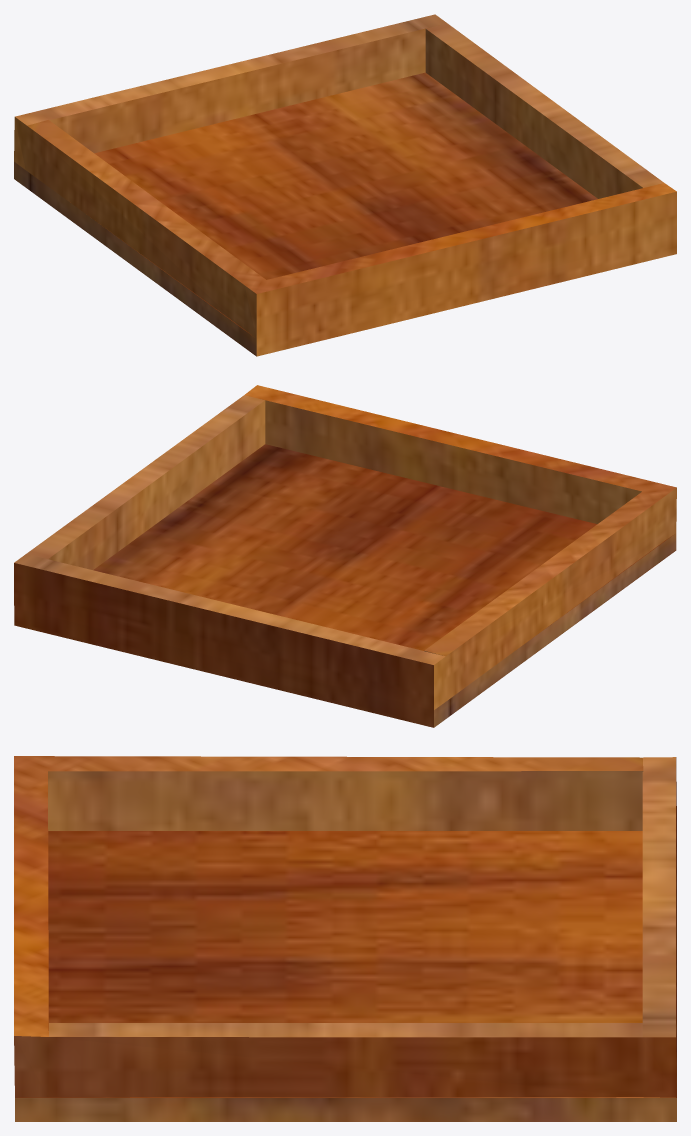
The model's file is table.obj.
The picture shows the model from 3 angles, top to bottom: view 1: azimuth 30°, elevation 25°; view 2: azimuth 150°, elevation 25°; view 3: azimuth 270°, elevation 25°; orthographic projection. The views are drawn at different scales.
Parts seen in each view (by area): view 1: Mesh_bottom_Cube; view 2: Mesh_bottom_Cube; view 3: Mesh_bottom_Cube.
Part boxes in pixels (x1,y1,x2,y2): Mesh_bottom_Cube: [14, 14, 676, 356]; Mesh_bottom_Cube: [14, 385, 676, 727]; Mesh_bottom_Cube: [14, 756, 676, 1121].
Bounding box in the file's own units: 10.04 × 1.43 × 10.02.
Materials: 1 (1 with a texture image).
